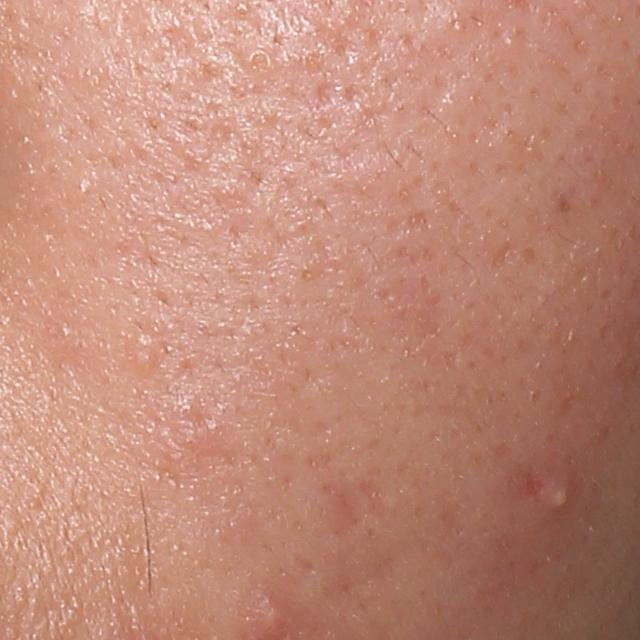atrophic_scar: (490, 235, 515, 273)
comedo: (123, 330, 165, 371), (241, 46, 277, 74)
papule: (250, 595, 292, 640)
pustule: (546, 478, 579, 516)
